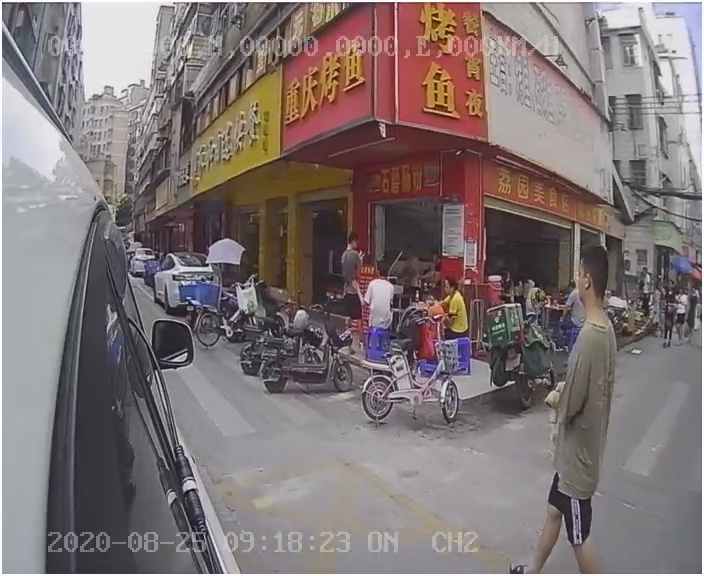person: (529, 251, 647, 555)
